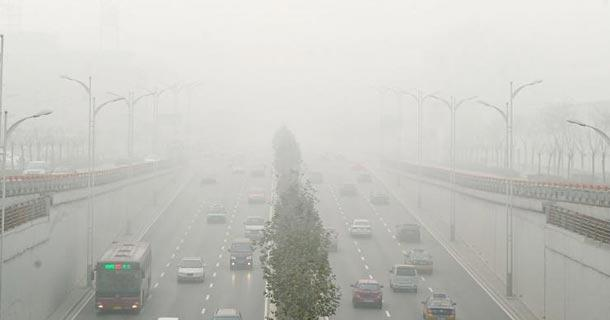bus: (89, 239, 153, 313), (232, 155, 247, 174)
car: (349, 277, 384, 309), (422, 291, 458, 320), (402, 246, 436, 273), (389, 264, 419, 293), (228, 242, 256, 270), (176, 257, 207, 282), (313, 227, 340, 253), (242, 216, 268, 241), (395, 222, 422, 243), (349, 217, 373, 240), (23, 161, 49, 179), (50, 165, 80, 180), (206, 204, 227, 223), (247, 186, 266, 204), (370, 188, 390, 204), (248, 161, 267, 175), (357, 169, 373, 184), (340, 182, 357, 196), (307, 168, 322, 183), (143, 153, 161, 165), (201, 171, 217, 184), (115, 157, 132, 169)
